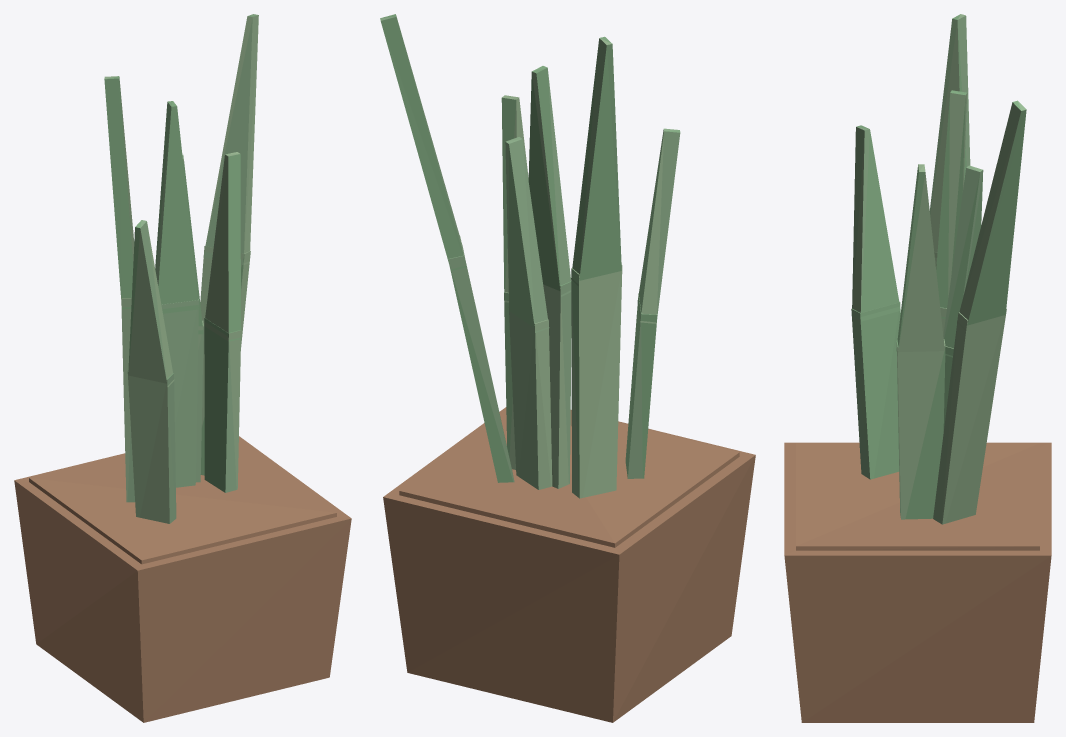
Rendered from potted-plant-00.glb.
The picture shows the model from 3 angles, left to right: view 1: azimuth 30°, elevation 25°; view 2: azimuth 150°, elevation 25°; view 3: azimuth 270°, elevation 25°; orthographic projection. The views are drawn at different scales.
Parts seen in each view (by area): view 1: potted_plant_00; view 2: potted_plant_00; view 3: potted_plant_00.
Boxes of the visible parts, x1=… form: potted_plant_00: x1=14, y1=14, x2=351, y2=722; potted_plant_00: x1=380, y1=14, x2=755, y2=722; potted_plant_00: x1=784, y1=14, x2=1051, y2=722.
Bounding box in the file's own units: 0.3594 × 0.8697 × 0.3334.
